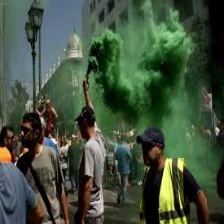smoke: (86, 22, 201, 117)
